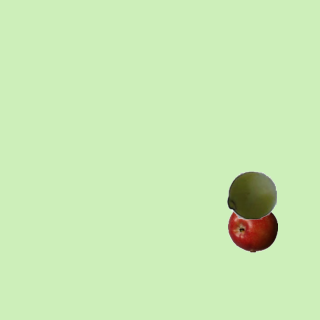Apple Braeburn: (227, 202, 277, 252)
Grape White 4: (226, 169, 276, 219)
